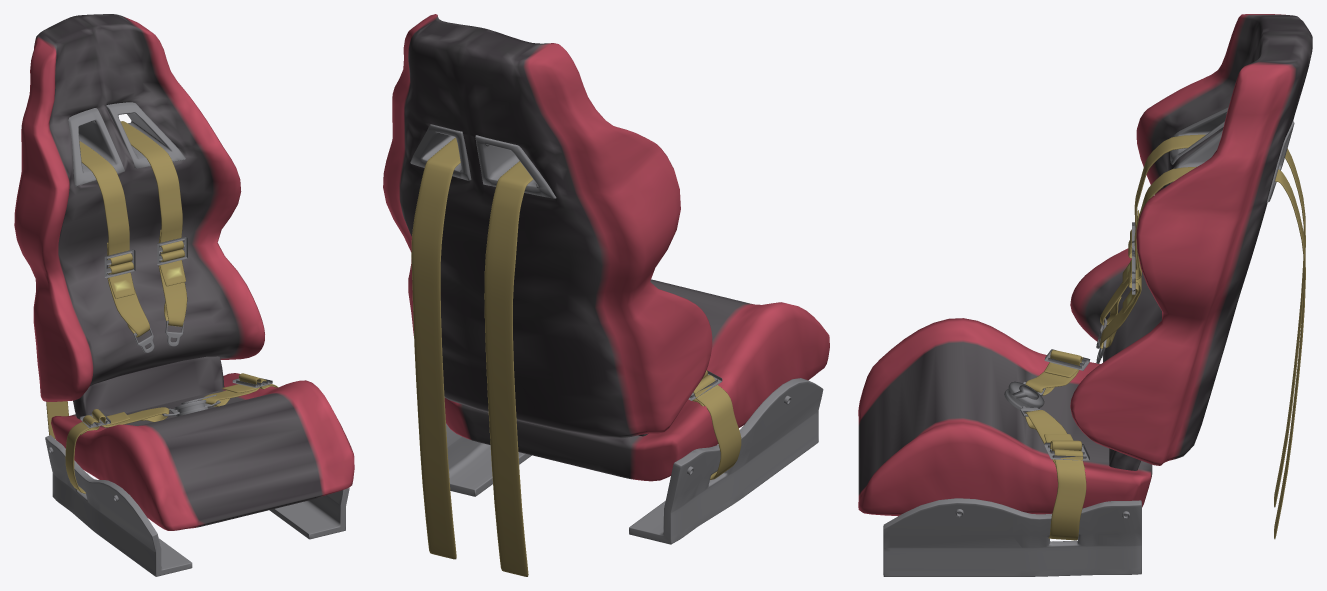
The model's file is seat.glb.
3 renders of one model, left to right at view 1: azimuth 30°, elevation 25°; view 2: azimuth 150°, elevation 25°; view 3: azimuth 270°, elevation 25°, orthographic. The views are drawn at different scales.
Parts seen in each view (by area): view 1: seat; view 2: seat; view 3: seat.
Boxes of the visible parts, x1=… form: seat: x1=14, y1=14, x2=354, y2=576; seat: x1=383, y1=14, x2=829, y2=576; seat: x1=858, y1=14, x2=1312, y2=576.
Bounding box in the file's own units: 0.7531 × 1.38 × 1.16.
